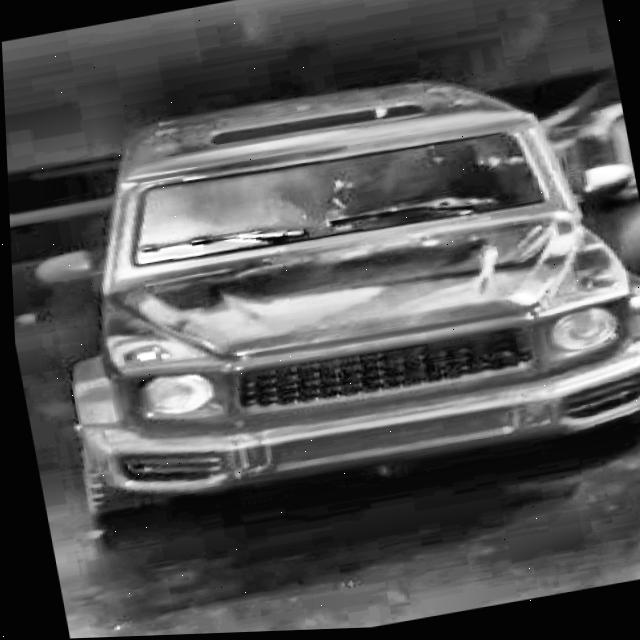light_vehicle: (27, 39, 640, 532)
